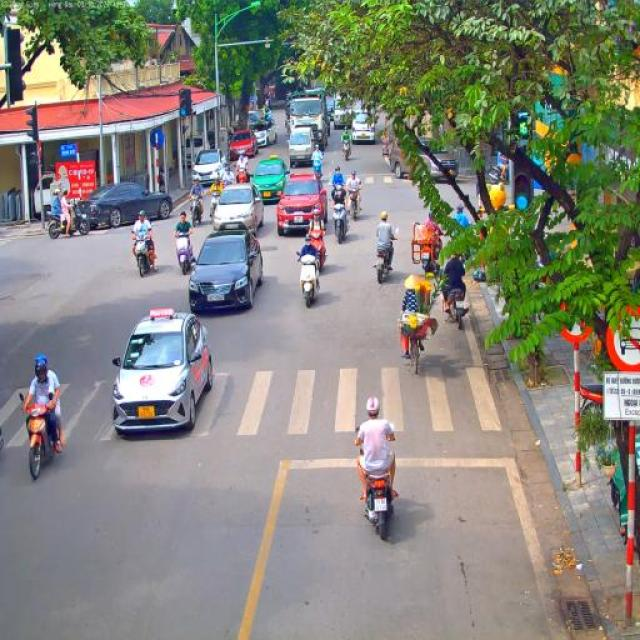car: (110, 308, 212, 438), (187, 228, 266, 314), (72, 181, 173, 230), (276, 173, 328, 237), (388, 132, 459, 178), (212, 182, 264, 238), (250, 154, 292, 205), (192, 148, 226, 182), (288, 126, 314, 169), (228, 130, 258, 160), (351, 110, 377, 144), (250, 121, 278, 148), (234, 110, 264, 130), (333, 100, 355, 126)
motorcycle: (353, 422, 398, 542), (20, 392, 60, 482), (43, 202, 91, 240), (411, 222, 441, 276), (373, 228, 399, 284), (296, 251, 320, 309), (442, 284, 469, 330), (173, 232, 196, 276), (132, 232, 153, 278), (306, 228, 329, 268), (330, 203, 350, 245), (578, 384, 604, 411), (188, 194, 203, 228), (208, 189, 222, 223), (488, 161, 508, 184), (349, 187, 361, 222), (332, 180, 347, 204), (312, 158, 323, 183), (342, 140, 352, 161), (235, 168, 247, 184), (382, 142, 390, 158)
truck: (289, 89, 331, 150)
